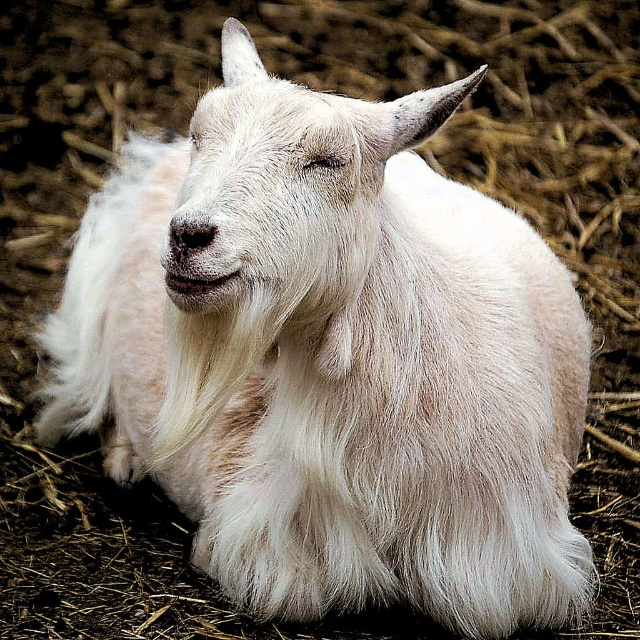Goat: (25, 15, 601, 640)
